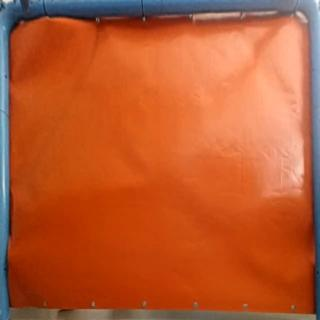Hit-hRxx: (8, 252, 22, 270)
